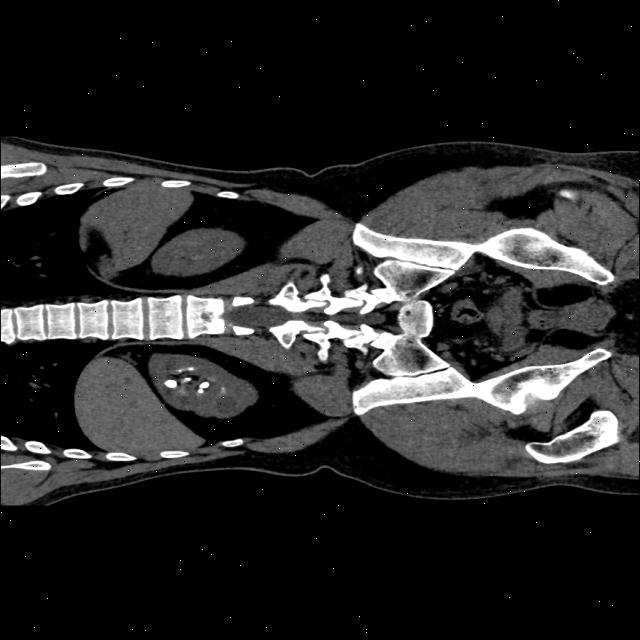kidneystone: (164, 378, 178, 388), (199, 380, 210, 392), (185, 369, 194, 375)
